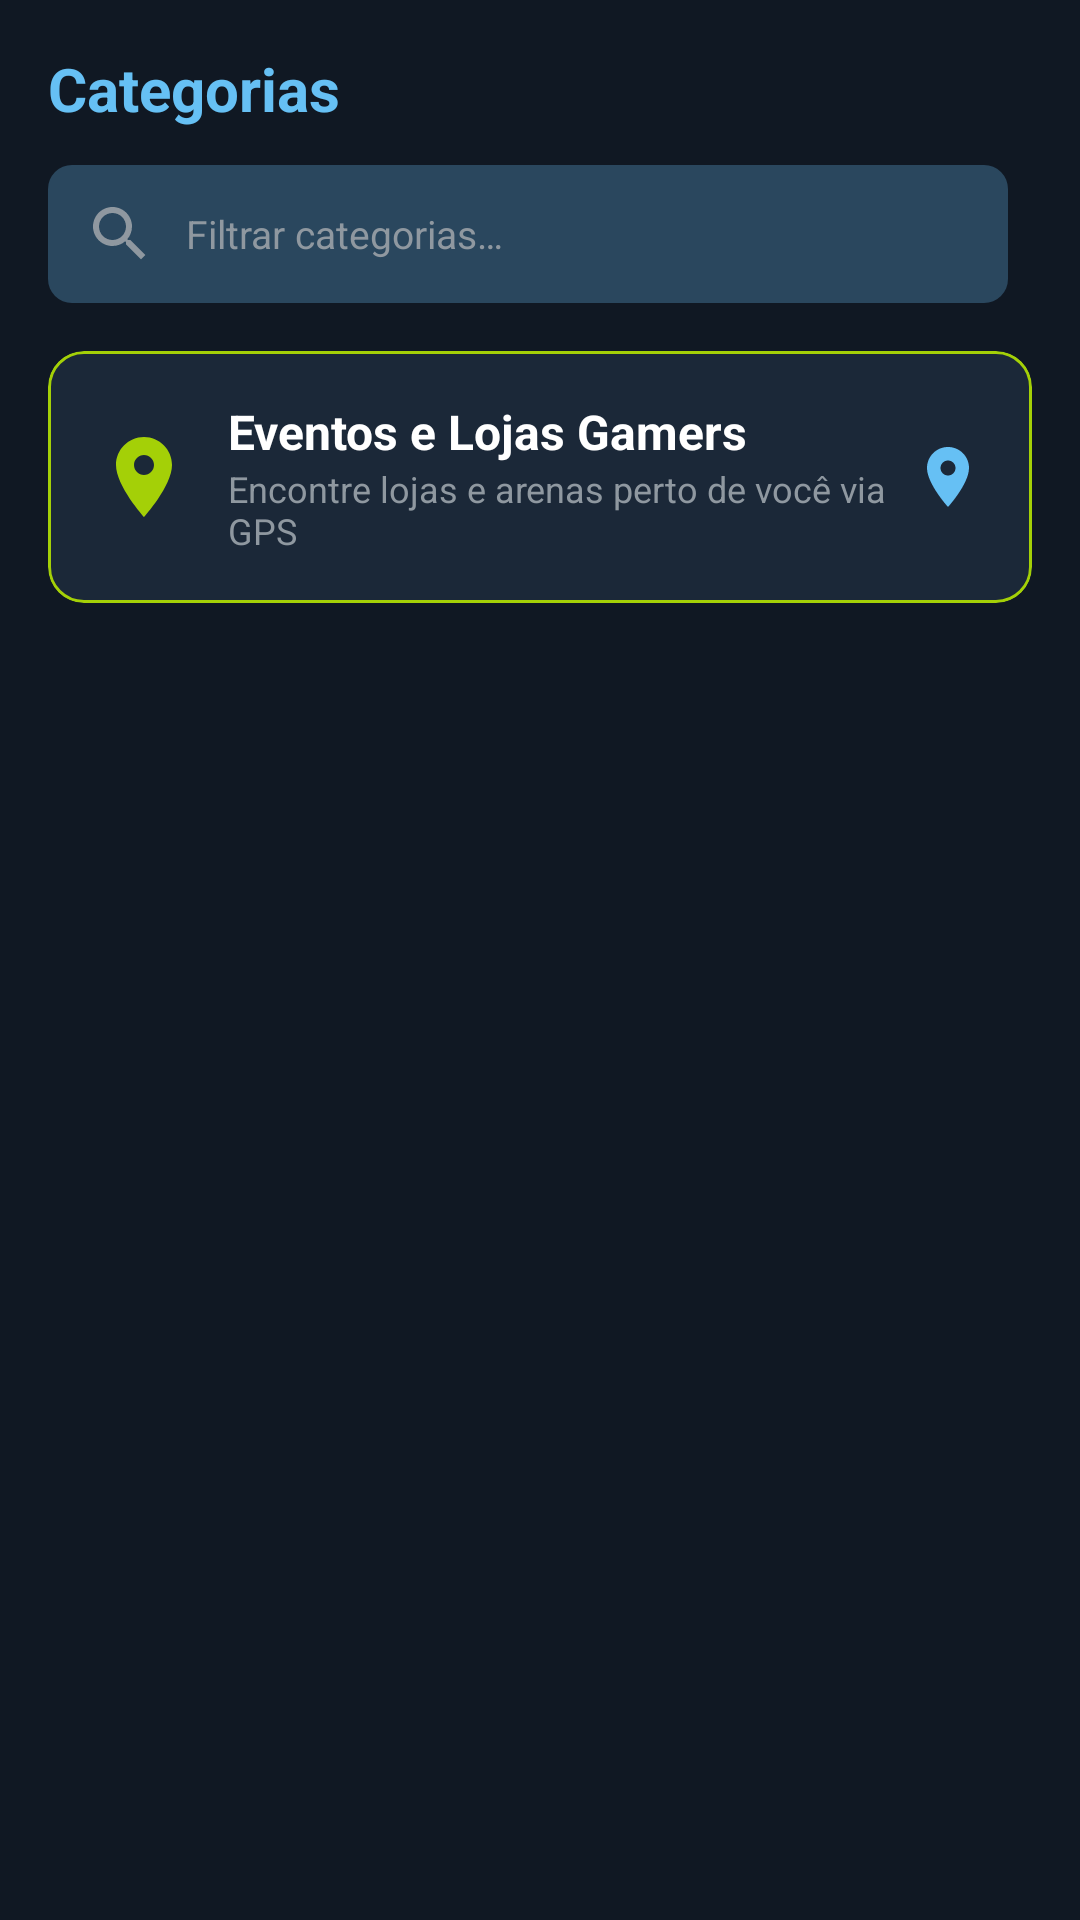

Where icons sit on this 1080px×1920px app screen, as (left=x1, top=y1, right=x2, bottom=y2):
location map: (left=116, top=437, right=172, bottom=517), (left=927, top=447, right=969, bottom=507)
